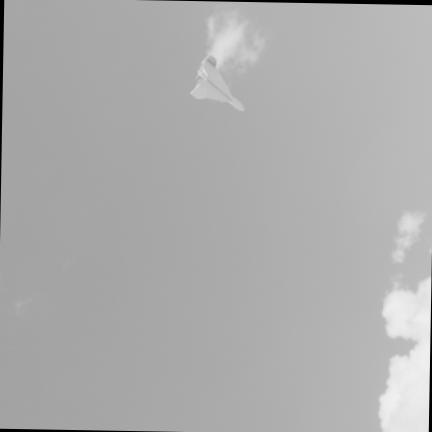Shahed: (190, 53, 243, 108)
